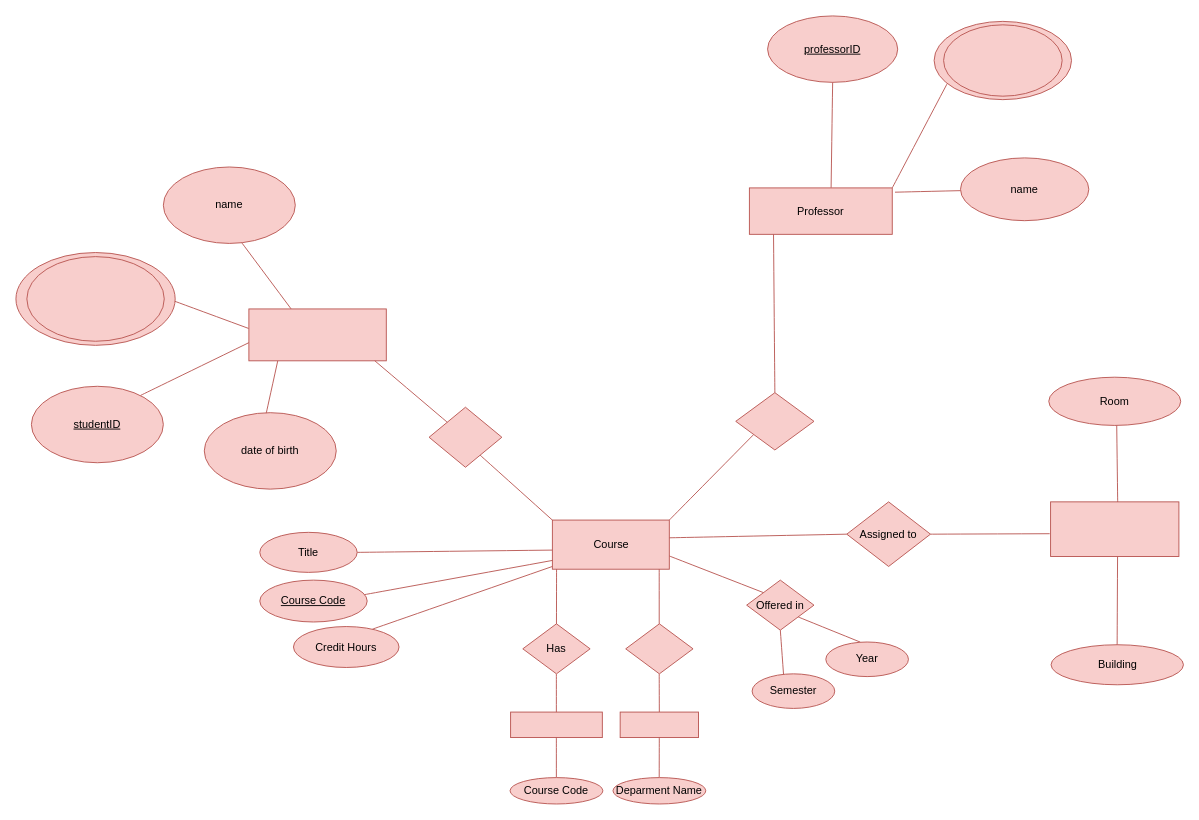
The diagram is 1199 pixels wide and 820 high, and some of its shapes have lost their labels. The centre of each missing label's shape, as x and y in pixels:
Classroom: [1114,528]
Contact Information: [95,298]
Department: [659,724]
Enrolls: [465,436]
expertise area: [1002,60]
Offered by: [659,648]
Prerequisite: [556,724]
Student: [317,334]
Teaches: [774,421]
